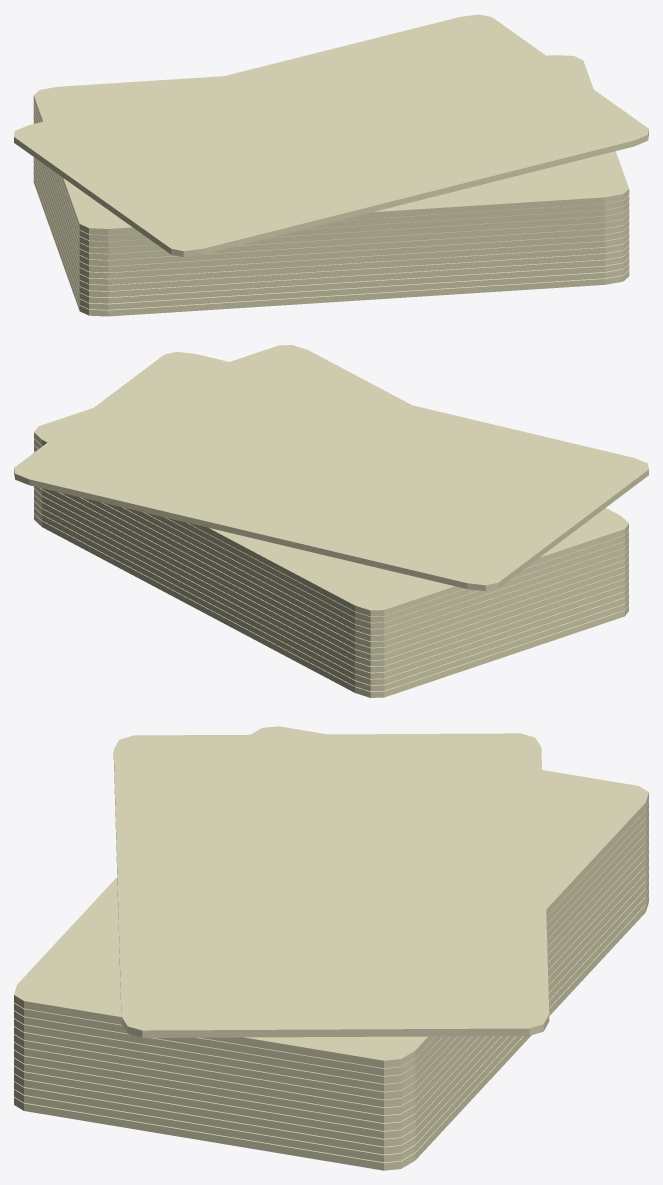
File: baraio.fbx
The picture shows the model from 3 angles, top to bottom: view 1: azimuth 30°, elevation 25°; view 2: azimuth 150°, elevation 25°; view 3: azimuth 270°, elevation 25°; orthographic projection. The views are drawn at different scales.
Visible parts, largest first — view 1: Cube; view 2: Cube; view 3: Cube.
Boxes of the visible parts, x1,y1,x2,y2 form: Cube: [14, 14, 648, 316]; Cube: [14, 345, 648, 697]; Cube: [14, 726, 648, 1170].
Size of the model in its own units: 370 by 62.68 by 297.
